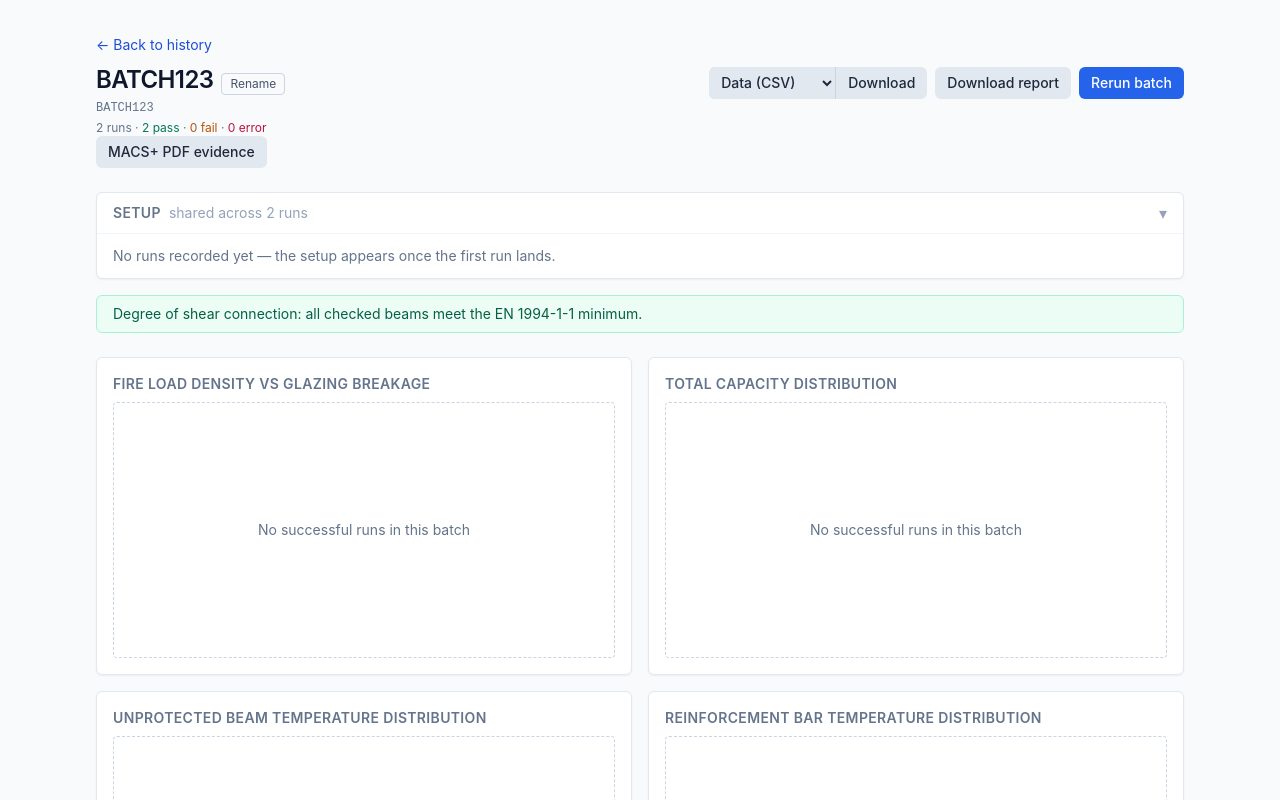
it: BatchProgressPage — results download › surfaces a sidecar failure instead of dumping JSON at the user
The width and height of the screenshot is (1280, 800).
Click the button "Download". click: [882, 82]
box: [836,66,927,98]
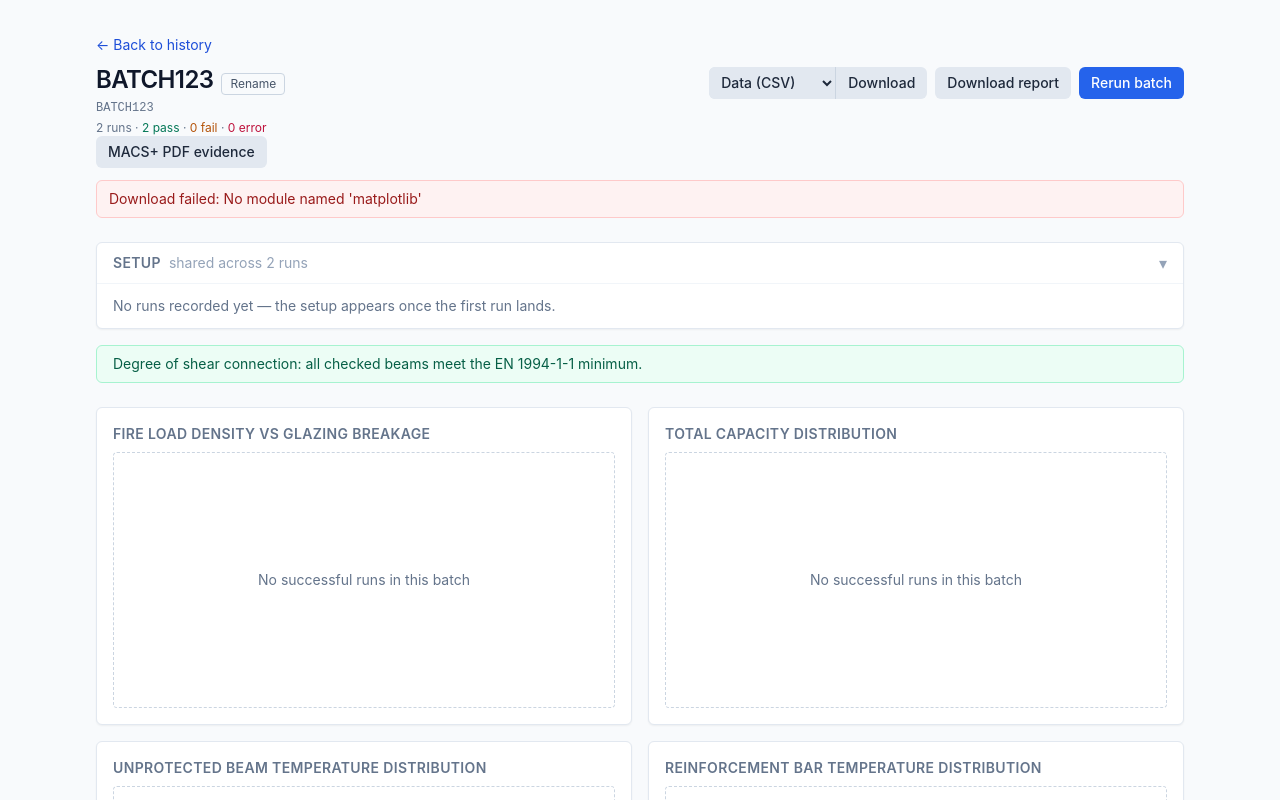
Result: the message shows "No module named 'matplotlib'" at [224,190,422,207]
